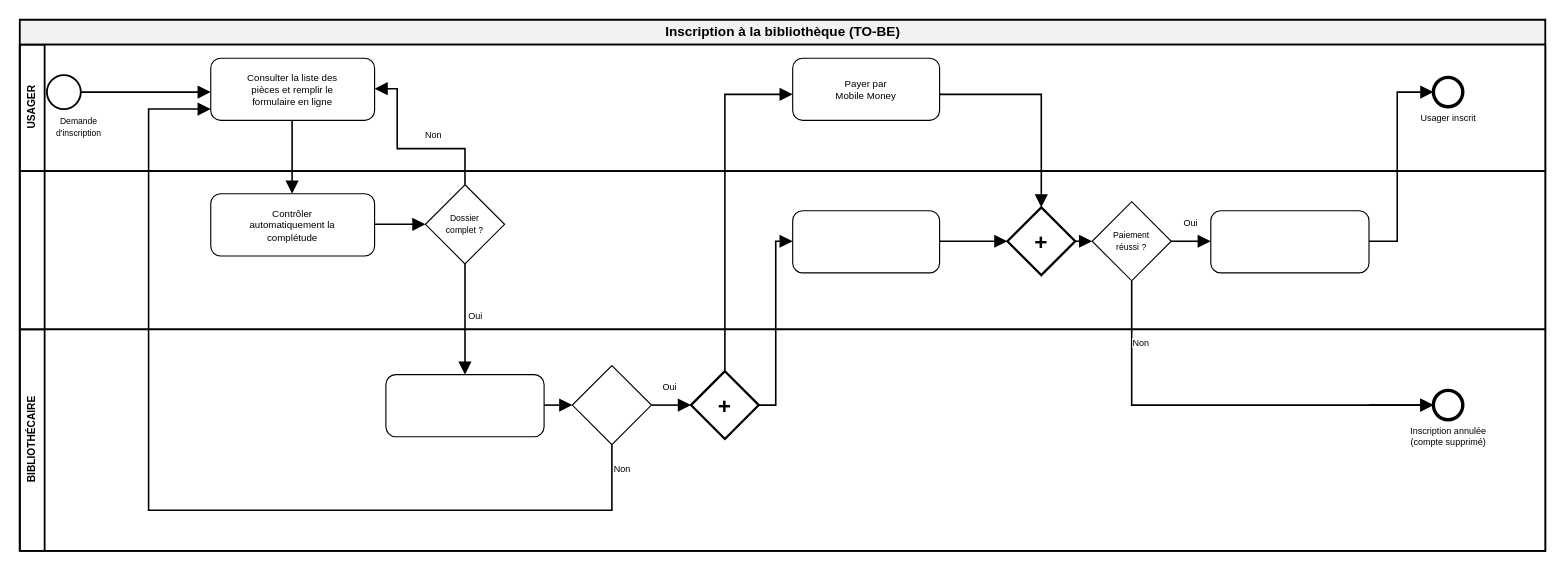
Image size: 1566x572. Some labels were removed from this diagram. Each missing label, with the box of its shape:
Créer le compte: (792, 210, 940, 273)
Envoyer le reçu et la carte numérique: (1210, 210, 1369, 273)
Pièces conformes ?: (571, 364, 651, 445)
SYSTÈME: (18, 170, 1546, 330)
Valider la conformité des pièces: (385, 373, 544, 437)
